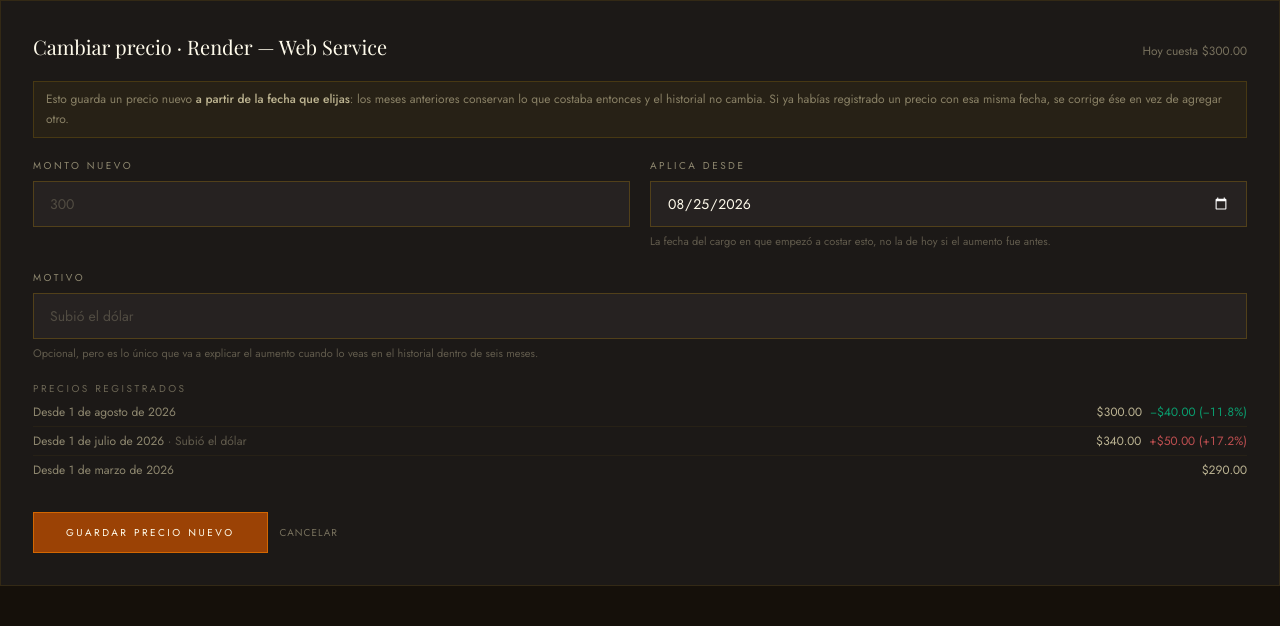
Test: ExpenseAmountForm › validación › exige la fecha de vigencia
In the field labelled "Monto nuevo": (332, 204) [33,181,630,227], type "350"
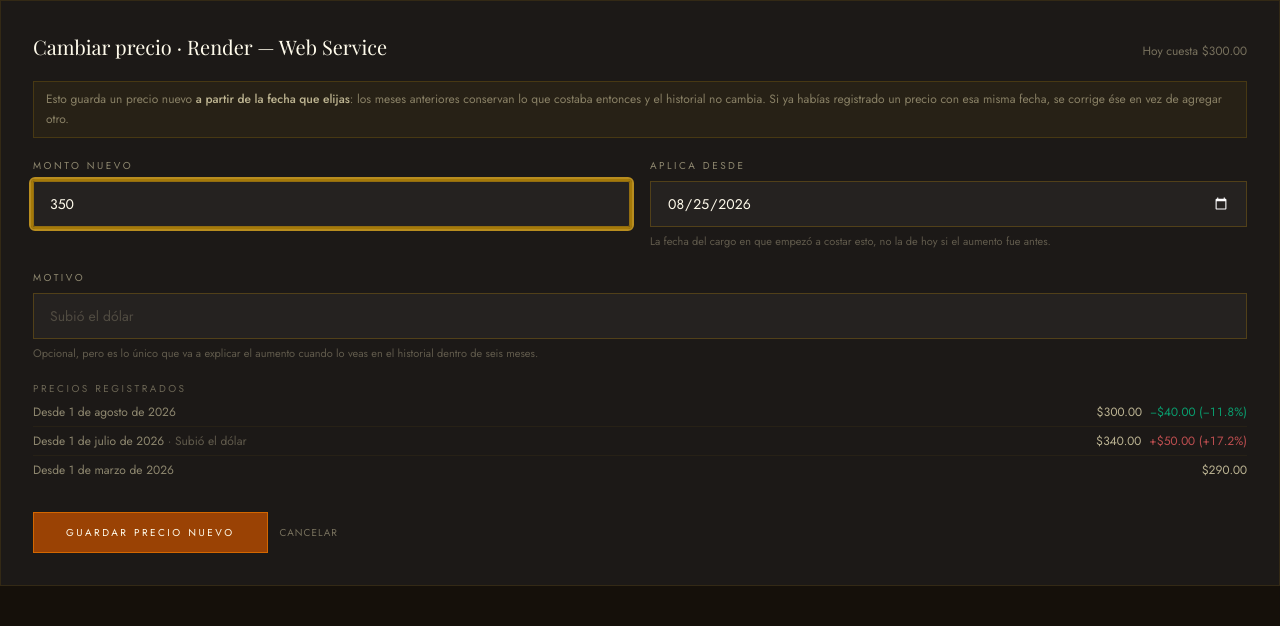
Clear the date field labelled "Aplica desde": (948, 204) [650,181,1247,227]
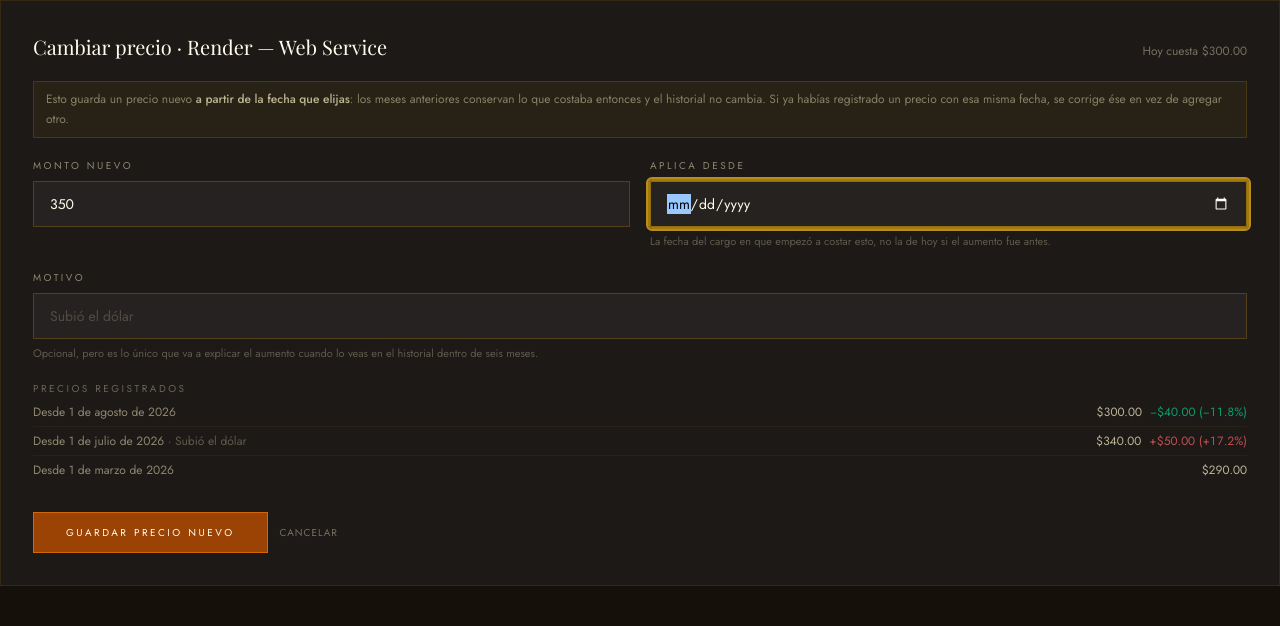
Click the button "Guardar precio nuevo": (150, 532) [33,512,268,553]
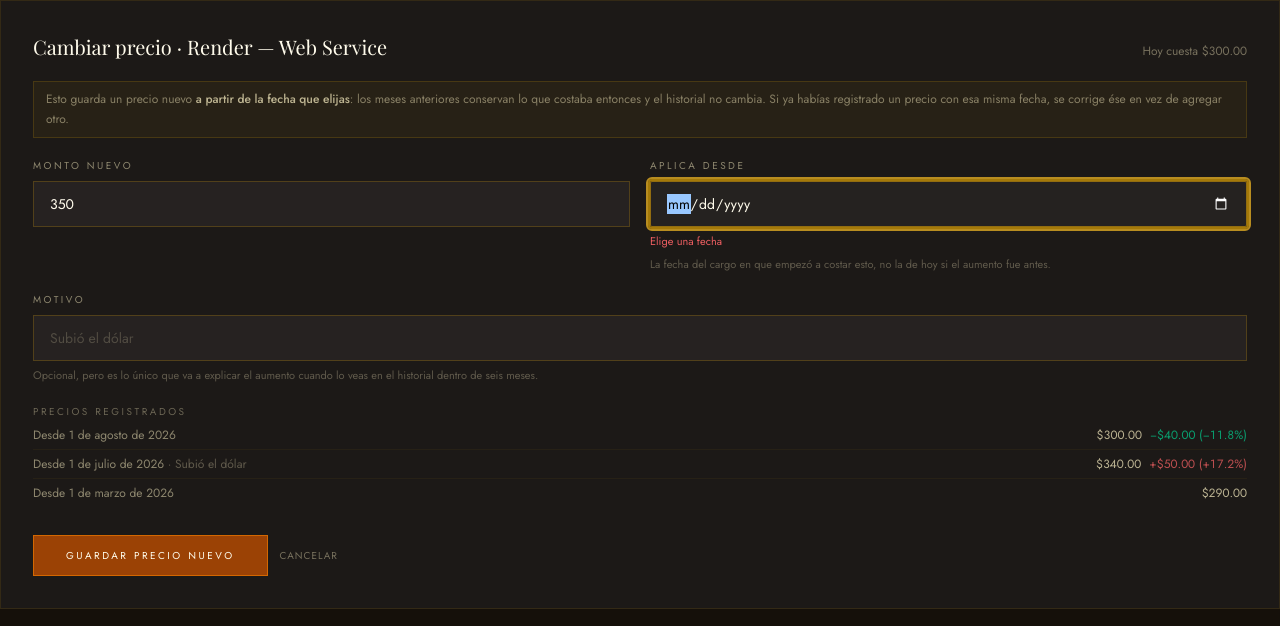
expect the text "Elige una fecha" is shown: met, box [650,233,722,249]
